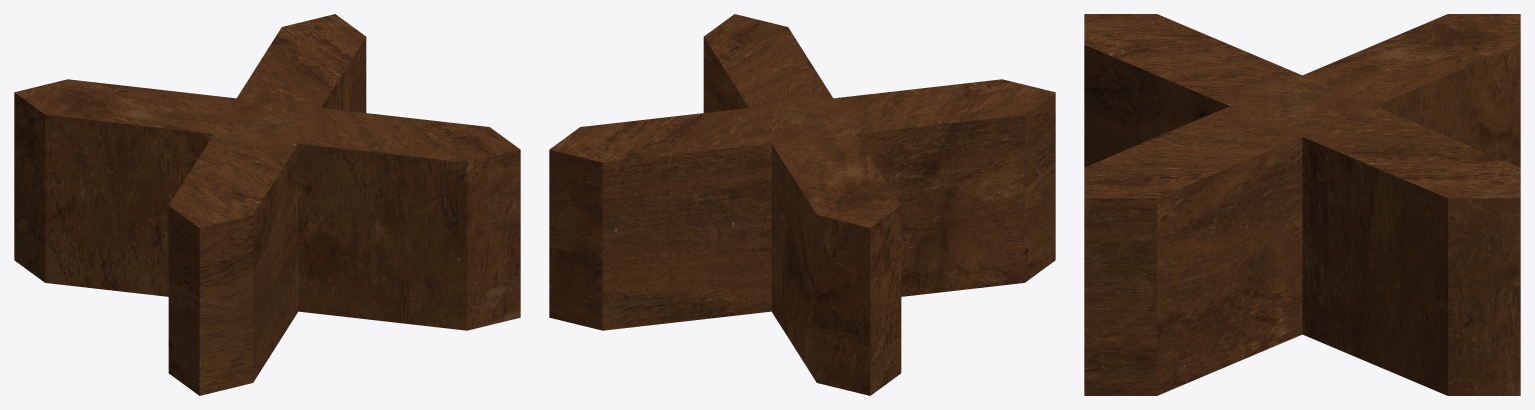
The model's file is croix.glb.
3 renders of one model, left to right at view 1: azimuth 30°, elevation 25°; view 2: azimuth 150°, elevation 25°; view 3: azimuth 270°, elevation 25°, orthographic. The views are drawn at different scales.
Parts seen in each view (by area): view 1: Plane; view 2: Plane; view 3: Plane.
Boxes of the visible parts, box(x1,y1,x2,y2) form: Plane: box(14, 14, 520, 395); Plane: box(549, 14, 1055, 395); Plane: box(1084, 14, 1520, 395).
Size of the model in its own units: 2 by 1 by 2.
Materials: 1 (1 with a texture image).
